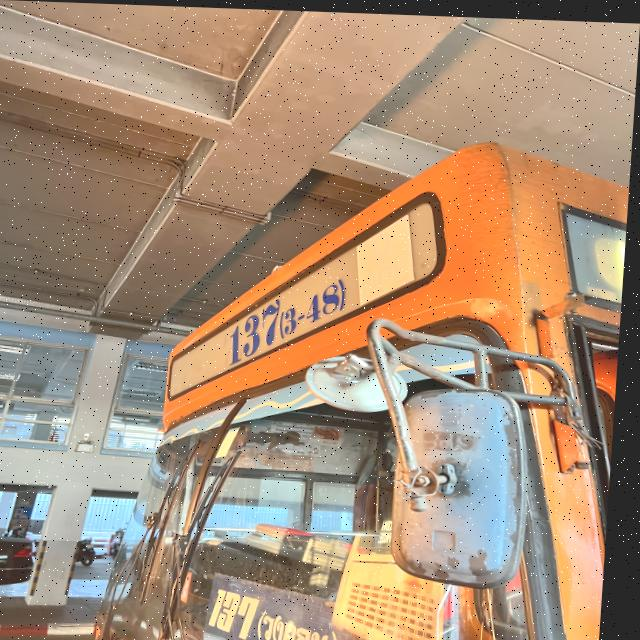BMTA-bus: (102, 139, 631, 640)
Bus Line Number: (227, 248, 356, 369)
Destination Sign: (210, 570, 360, 640)
